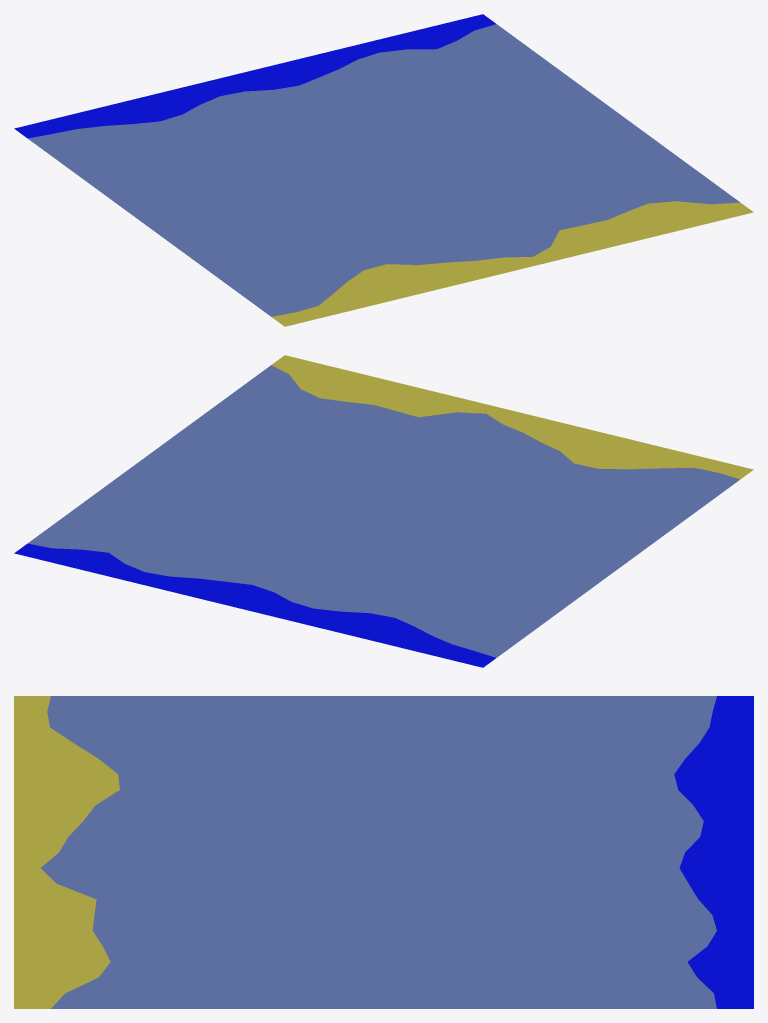
Rendered from ShoreStraight3.glb.
The picture shows the model from 3 angles, top to bottom: view 1: azimuth 30°, elevation 25°; view 2: azimuth 150°, elevation 25°; view 3: azimuth 270°, elevation 25°; orthographic projection. The views are drawn at different scales.
Visible parts, largest first — view 1: ShoreStraight3; view 2: ShoreStraight3; view 3: ShoreStraight3.
Boxes of the visible parts, x1,y1,x2,y2 form: ShoreStraight3: [14, 14, 753, 326]; ShoreStraight3: [14, 355, 753, 667]; ShoreStraight3: [14, 696, 753, 1008].
Size of the model in its own units: 1 by 0 by 1.
